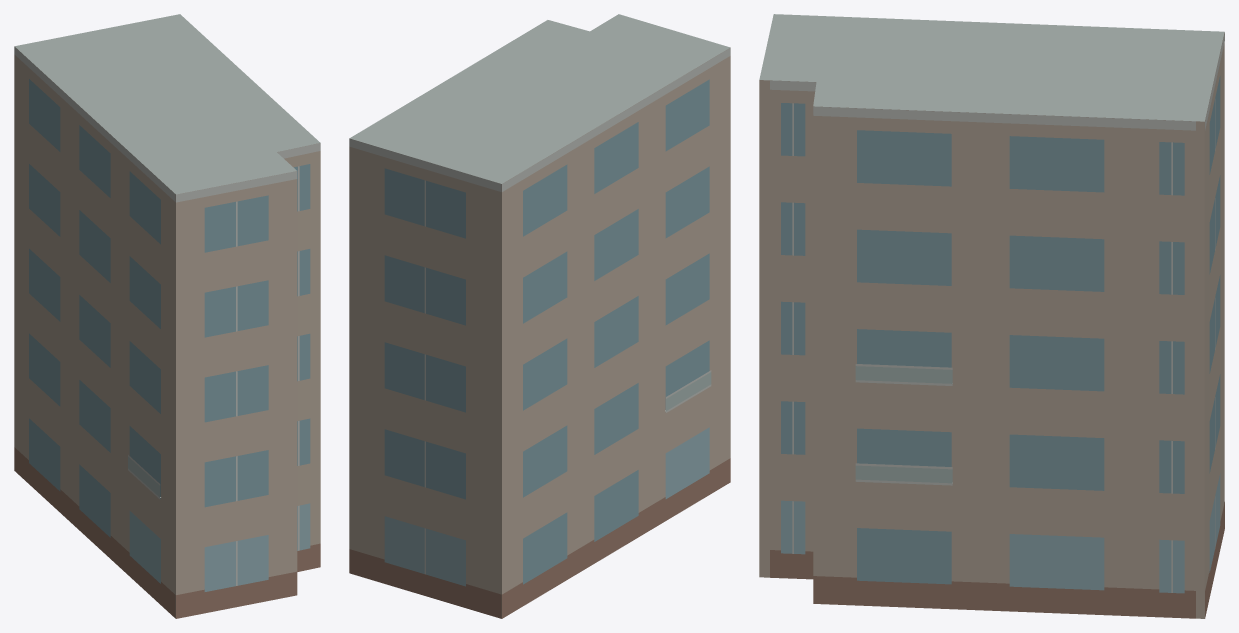
Rendered from survey-upis-32693201.glb.
The picture shows the model from 3 angles, left to right: view 1: azimuth 30°, elevation 25°; view 2: azimuth 150°, elevation 25°; view 3: azimuth 270°, elevation 25°; orthographic projection. The views are drawn at different scales.
Parts seen in each view (by area): view 1: survey-upis-32693201.tmp; view 2: survey-upis-32693201.tmp; view 3: survey-upis-32693201.tmp.
Part boxes in pixels (bbox=[...]): survey-upis-32693201.tmp: bbox=[14, 14, 320, 618]; survey-upis-32693201.tmp: bbox=[349, 14, 730, 618]; survey-upis-32693201.tmp: bbox=[759, 14, 1224, 618].
Bounding box in the file's own units: 5.99 × 12.9 × 10.95.
